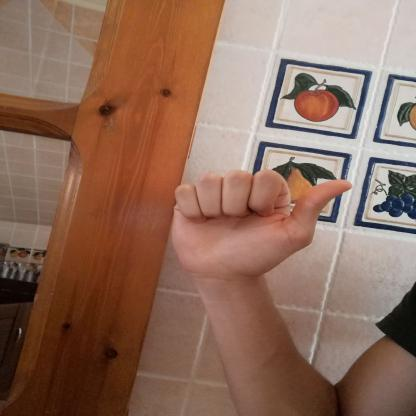DAD: (157, 161, 364, 290)
